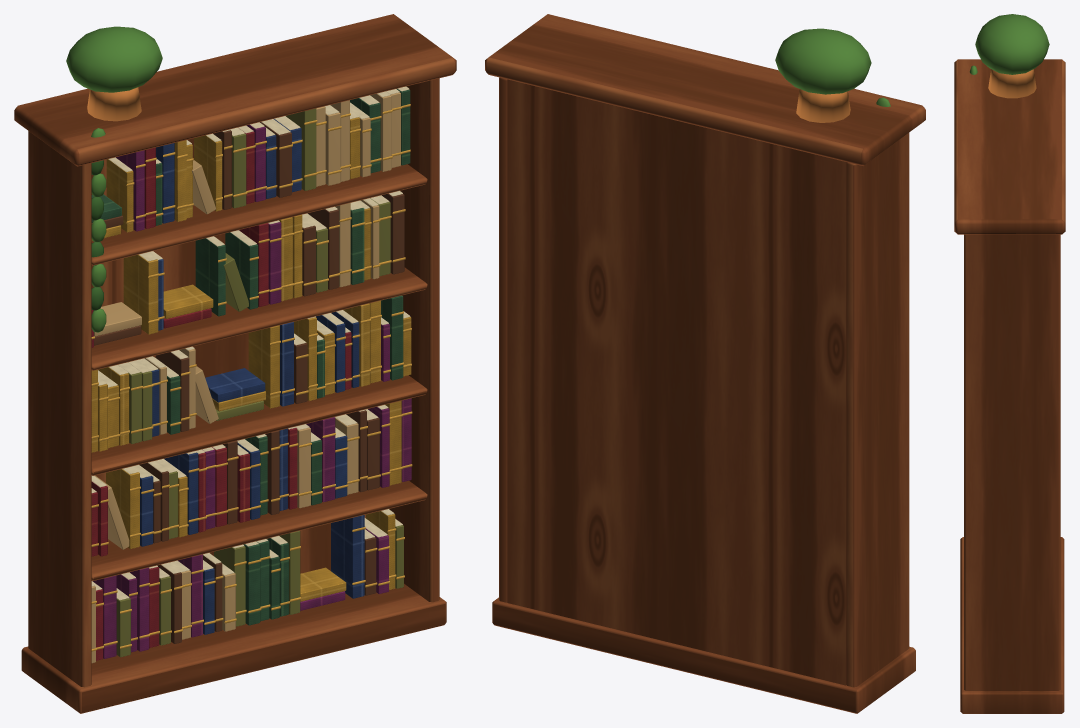
The model's file is cafe_bookshelf.glb.
3 renders of one model, left to right at view 1: azimuth 30°, elevation 25°; view 2: azimuth 150°, elevation 25°; view 3: azimuth 270°, elevation 25°, orthographic. The views are drawn at different scales.
Visible parts, largest first — view 1: model; view 2: model; view 3: model.
Boxes of the visible parts, x1,y1,x2,y2 form: model: (14, 14, 456, 713); model: (485, 14, 925, 713); model: (954, 14, 1065, 713).
Size of the model in its own units: 1.6 by 2.58 by 0.46.
Materials: 14 (8 with a texture image).
